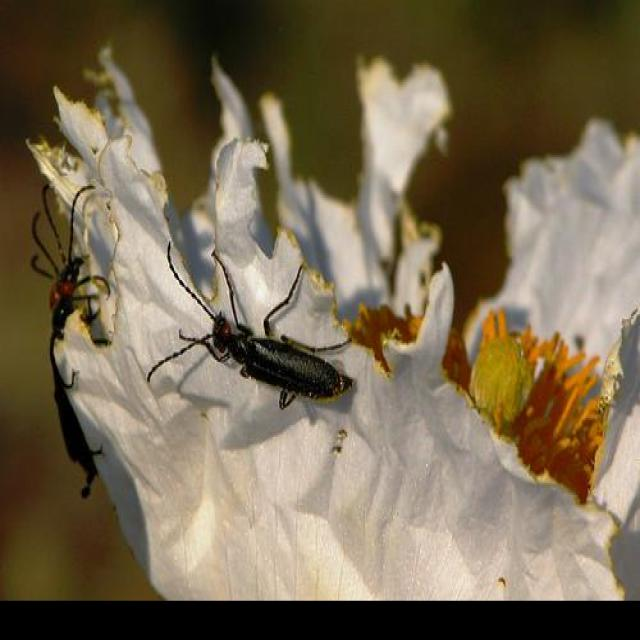BlisterBeetle-Adult-: (135, 242, 365, 420)
